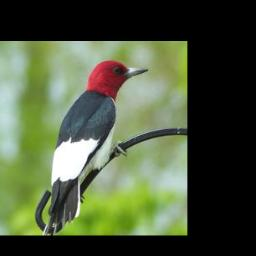Woodpecker: (40, 58, 151, 235)
